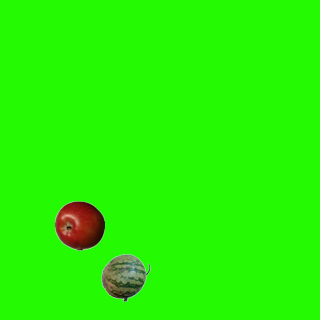Apple Braeburn: (54, 200, 104, 250)
Watermelon: (100, 252, 150, 302)
